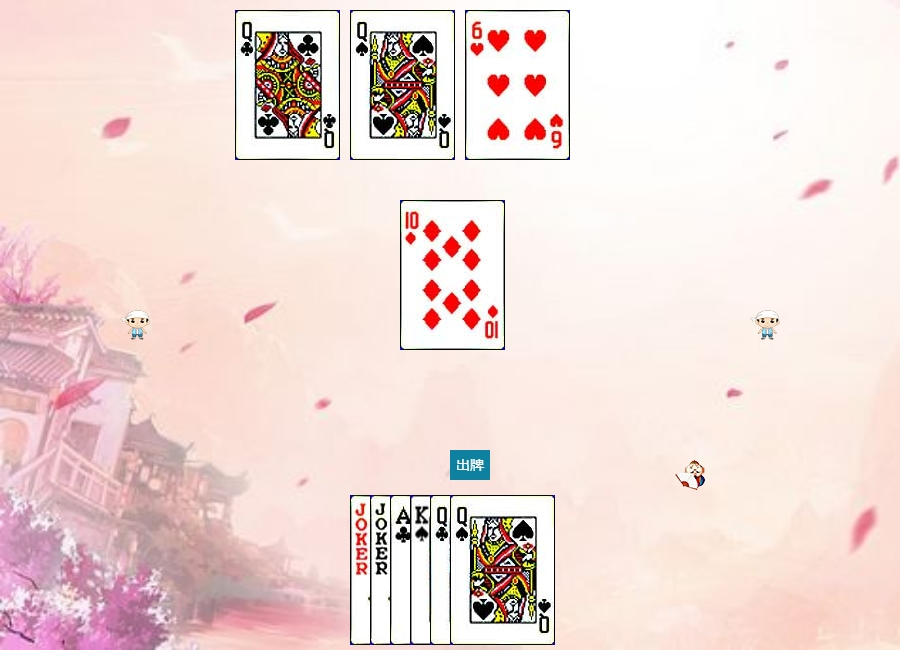10~1: (400, 200, 505, 350)
12~2: (235, 10, 340, 160), (430, 495, 535, 645)
12~4: (350, 10, 455, 160), (450, 495, 555, 645)
13~4: (410, 495, 515, 645)
14~2: (390, 495, 495, 645)
17~3: (370, 495, 475, 645)
18~4: (350, 495, 455, 645)
6~3: (465, 10, 570, 160)
